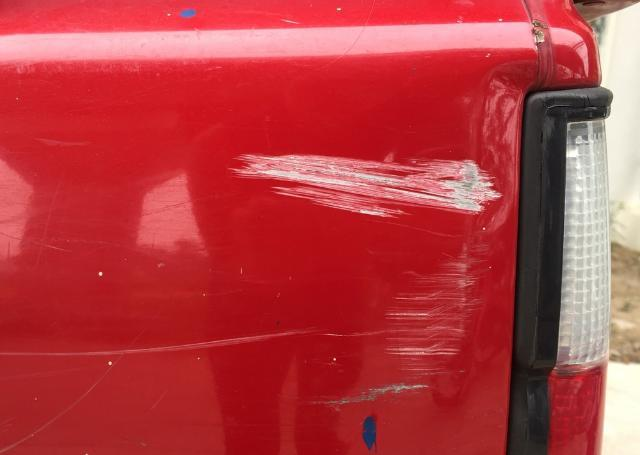scratch: (225, 147, 509, 411), (0, 327, 310, 362)
